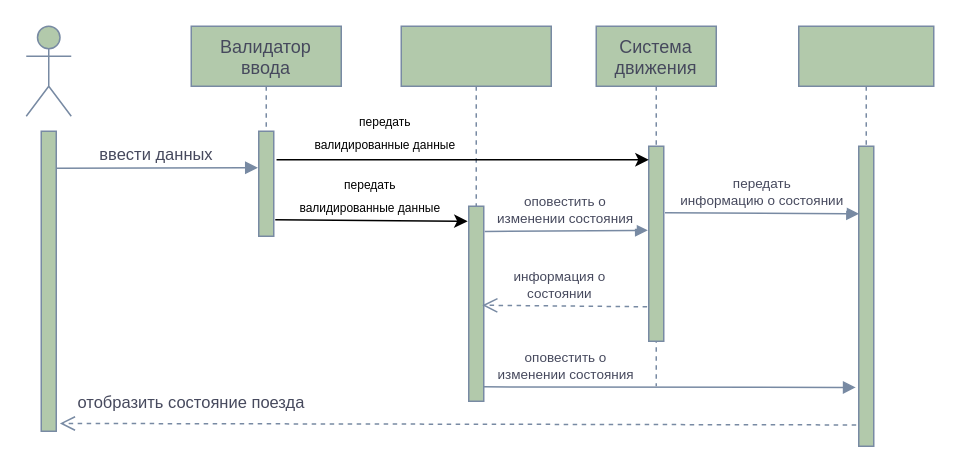
This 960x473 diagram has some shape labels left out. The centre of each missing label's shape, as x and y in pixels:
Визуальная модель поезда: point 865,235
Вспомогательные системы поезда: point 475,213
